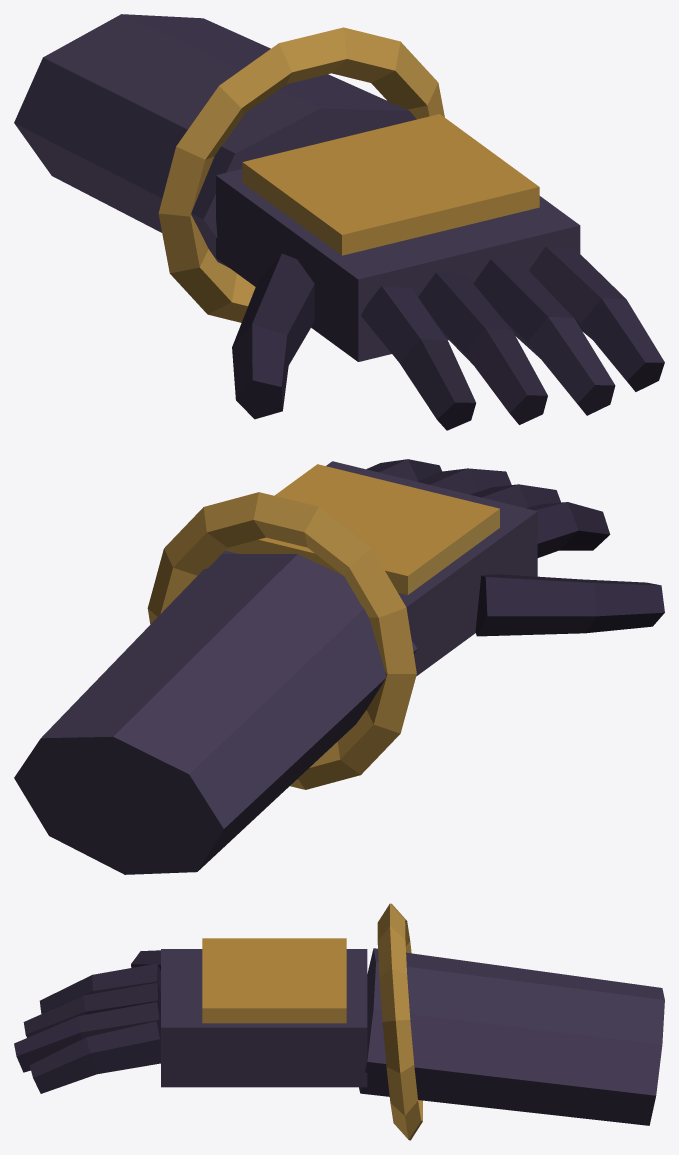
The model's file is Gauntlet_L.fbx.
3 renders of one model, top to bottom at view 1: azimuth 30°, elevation 25°; view 2: azimuth 150°, elevation 25°; view 3: azimuth 270°, elevation 25°, orthographic. The views are drawn at different scales.
Visible parts, largest first — view 1: Gauntlet_L; view 2: Gauntlet_L; view 3: Gauntlet_L.
Boxes of the visible parts, x1,y1,x2,y2 form: Gauntlet_L: (14, 14, 664, 430); Gauntlet_L: (14, 459, 664, 874); Gauntlet_L: (14, 903, 664, 1140).
Bounding box in the file's own units: 0.1567 × 0.1146 × 0.3154.
